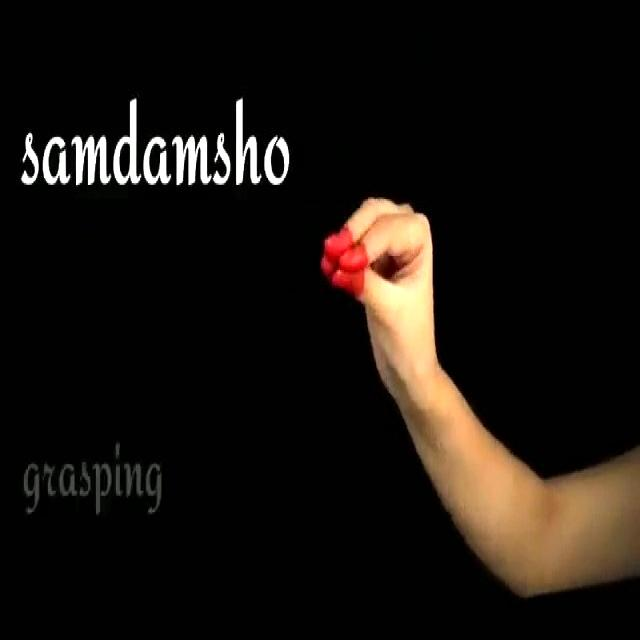Samdamsha: (313, 160, 465, 412)
text: (12, 95, 295, 214), (22, 442, 167, 532)
